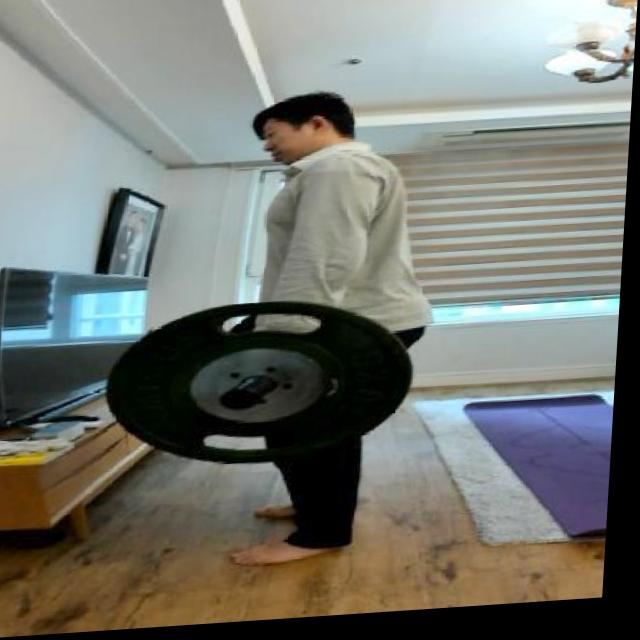barbell: (104, 291, 426, 483)
